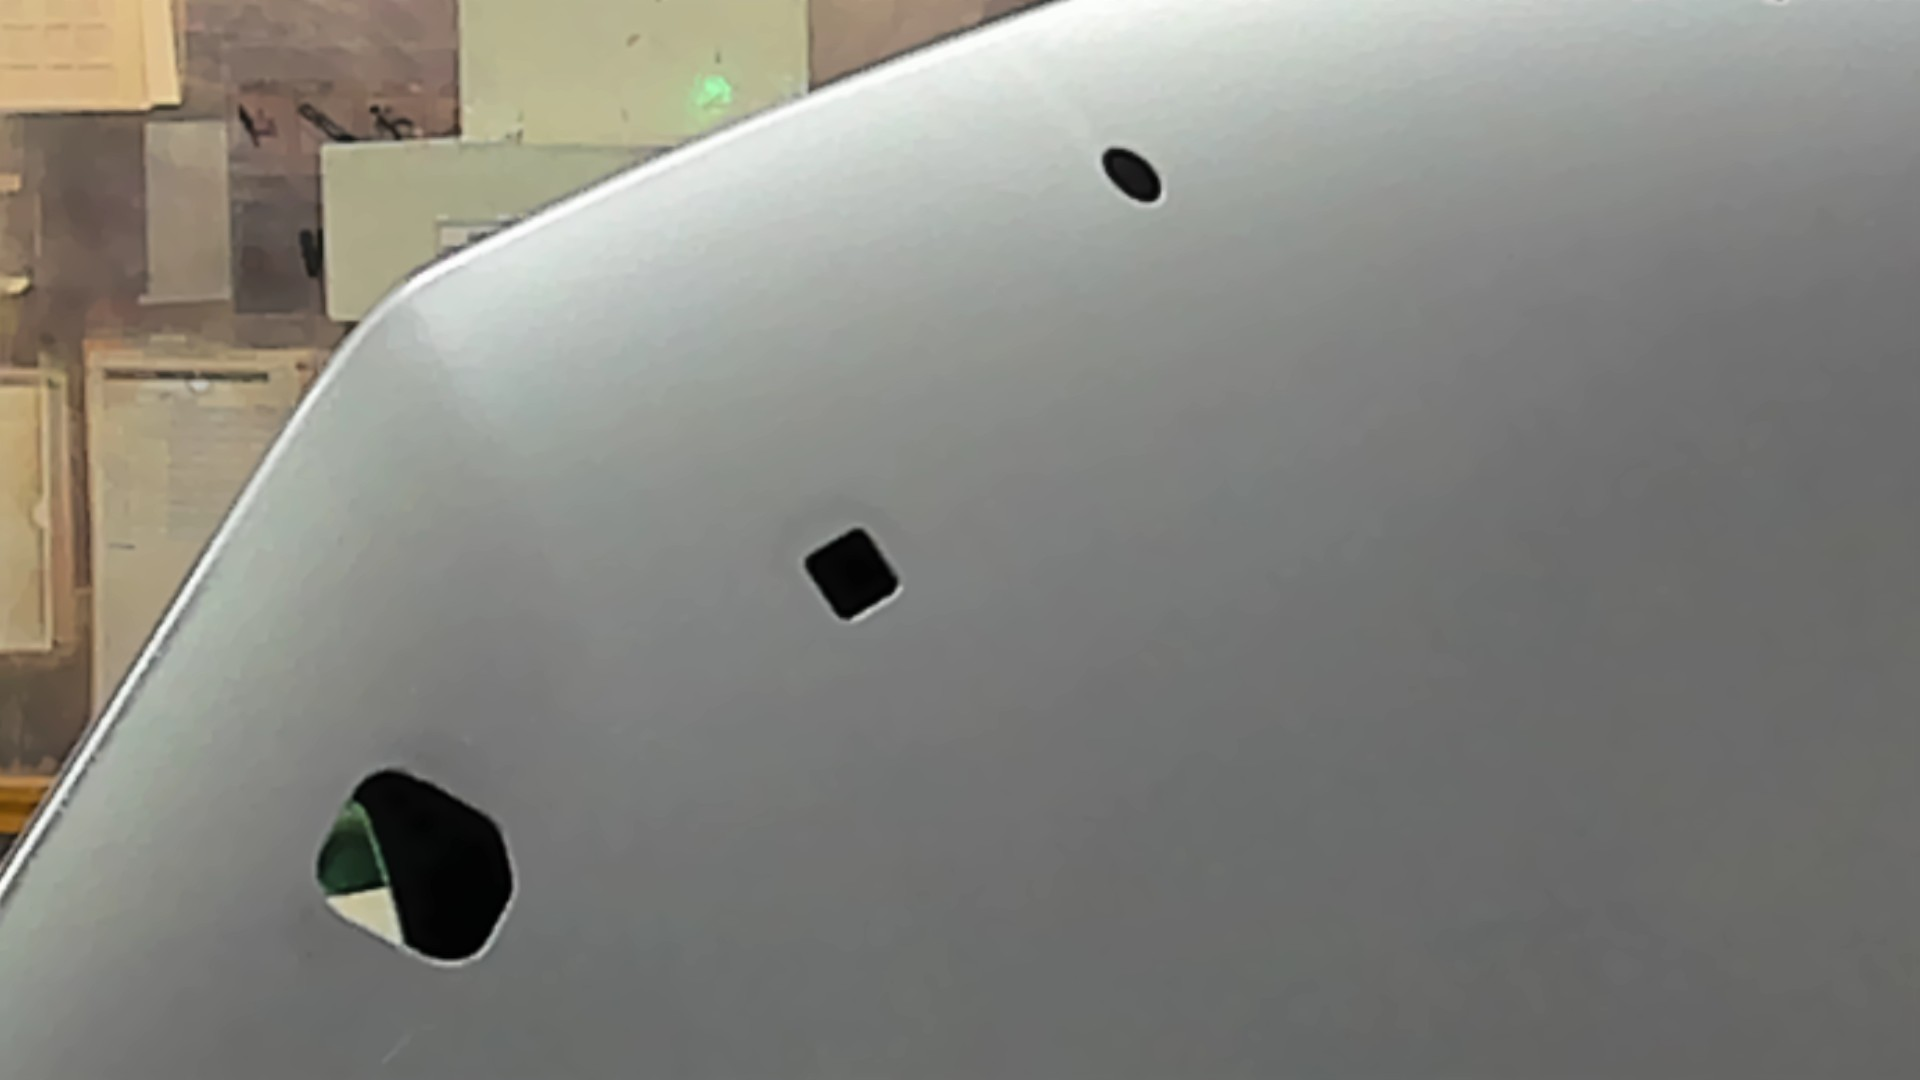chico: (1097, 140, 1168, 215)
grande: (291, 752, 530, 972)
mediano: (779, 518, 928, 637)
